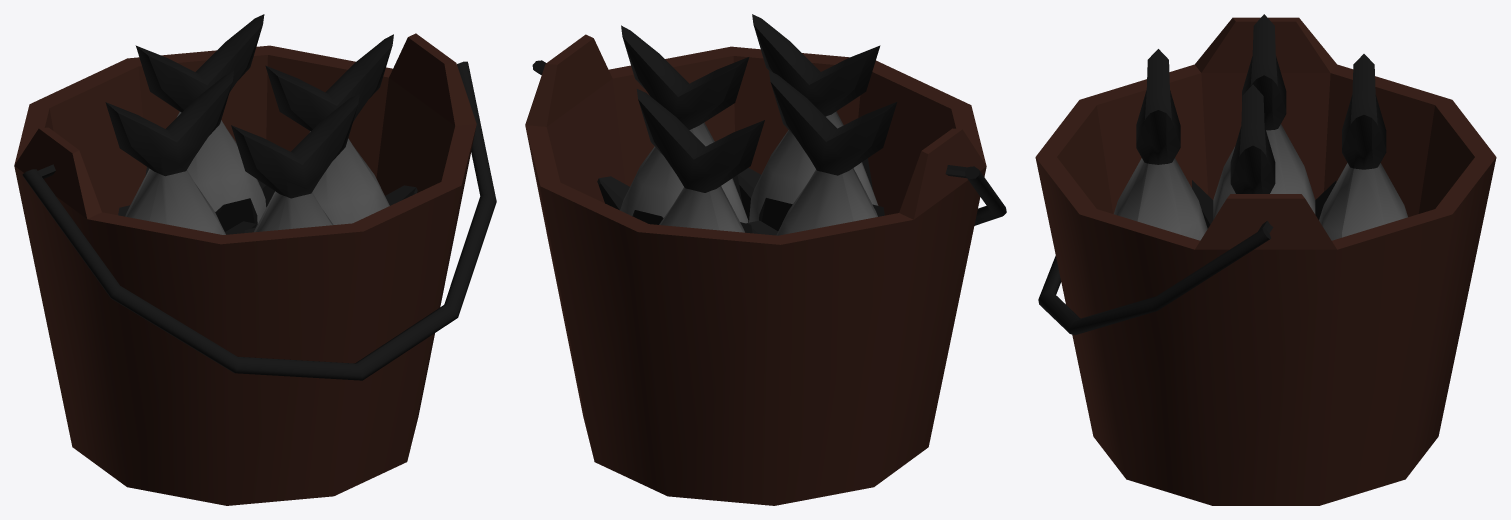
Rendered from cubo_pescado.fbx.
3 renders of one model, left to right at view 1: azimuth 30°, elevation 25°; view 2: azimuth 150°, elevation 25°; view 3: azimuth 270°, elevation 25°, orthographic. The views are drawn at different scales.
Visible parts, largest first — view 1: cubo, peces, asa; view 2: cubo, peces, asa; view 3: cubo, peces, asa.
Boxes of the visible parts, x1,y1,x2,y2 form: cubo: [14, 33, 476, 505]; peces: [105, 14, 417, 234]; asa: [22, 61, 496, 380]; cubo: [525, 34, 986, 505]; peces: [597, 14, 897, 235]; asa: [532, 60, 1006, 225]; cubo: [1035, 17, 1496, 505]; peces: [1114, 14, 1407, 240]; asa: [1038, 221, 1273, 335].
Bounding box in the file's own units: 53.04 × 41.71 × 48.6.
